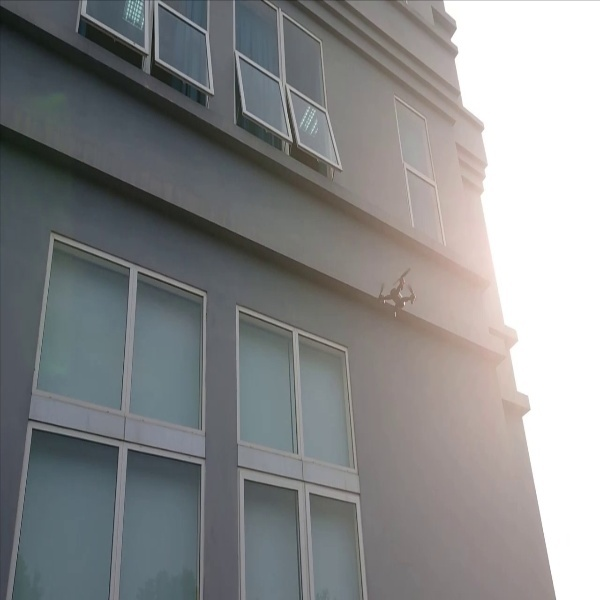drone: (365, 268, 423, 325)
